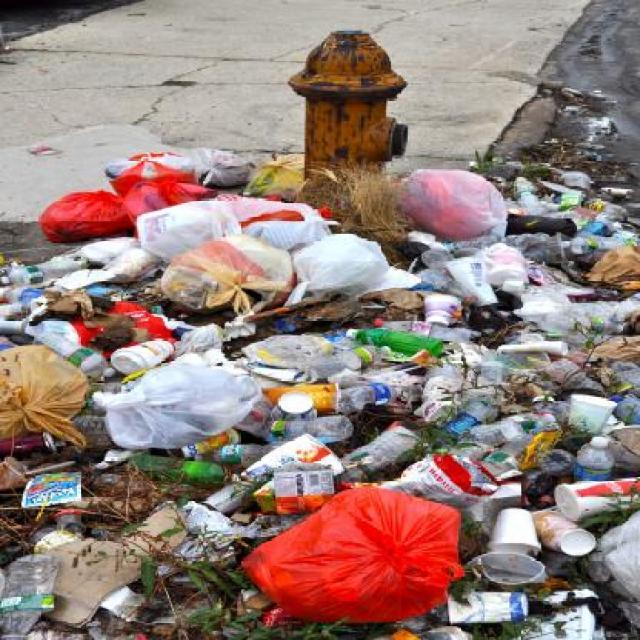garbage: (16, 148, 620, 632)
